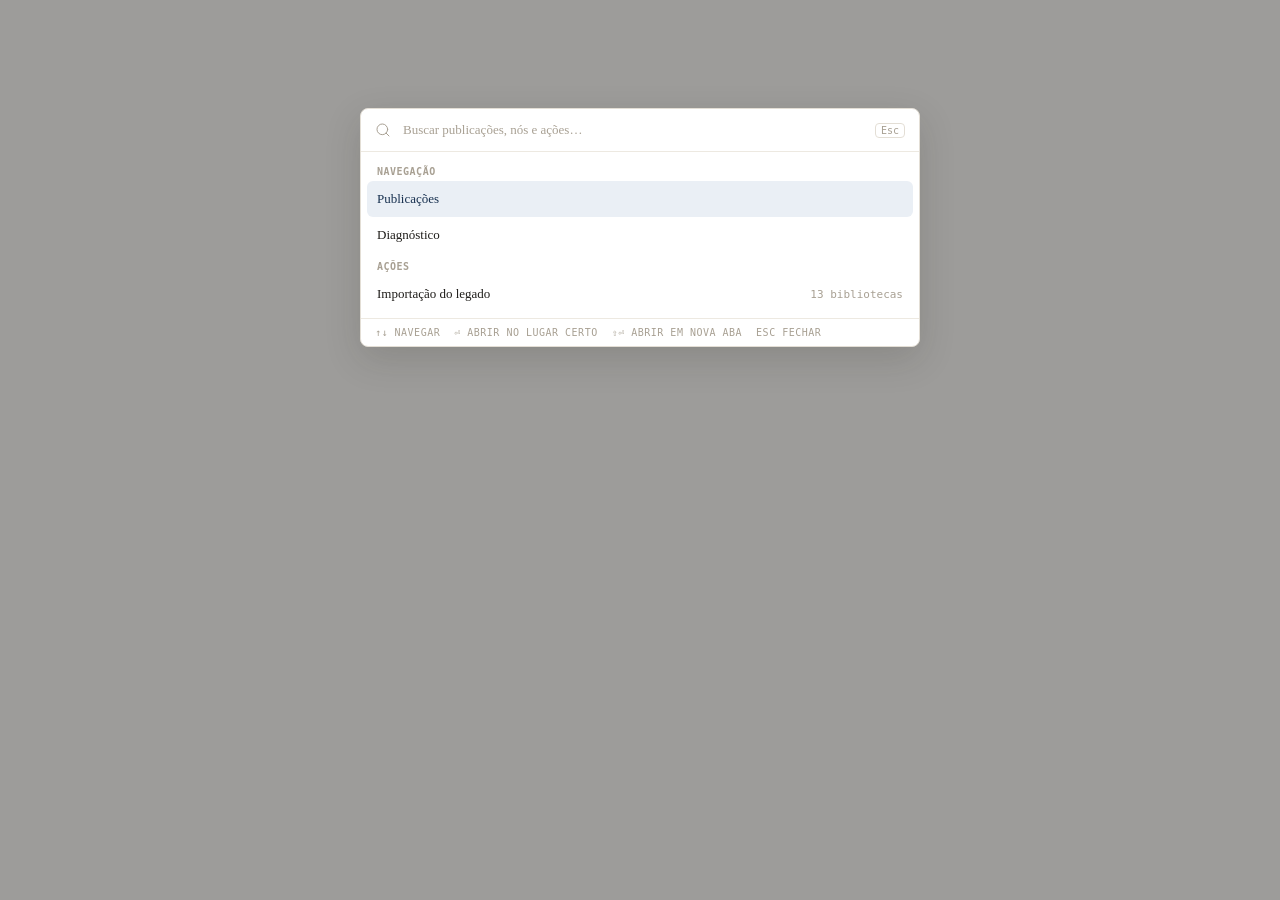
Scenario: CommandPalette › busca ignorando acento e agrupa preservando a ordem declarada
Type "importacao" into the dropdown at (633, 130), box 401,121 -> 865,139
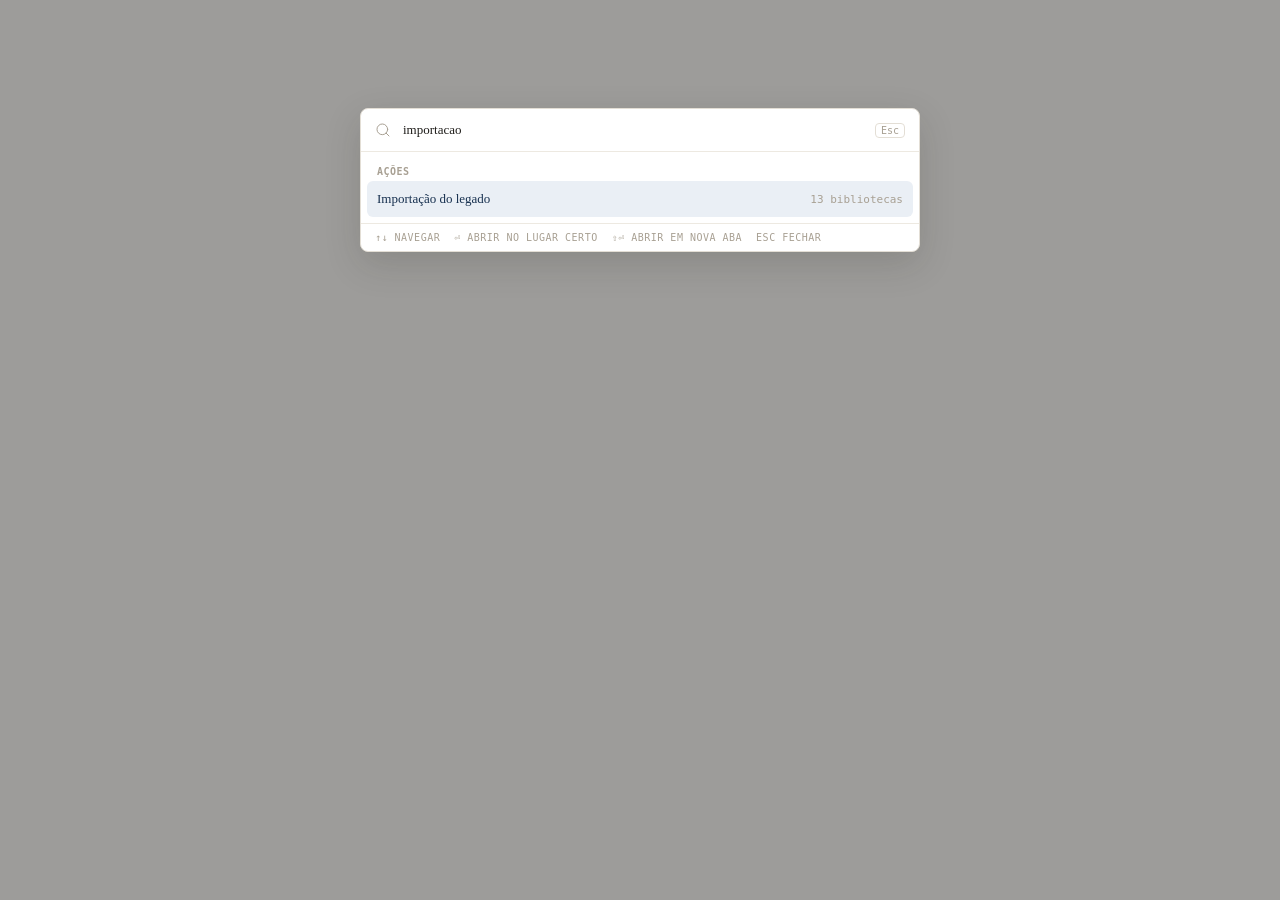
Expected: the option shows "Importação do legado", 367,181 -> 913,217
Now the number of options is 1, box 367,181 -> 913,217
